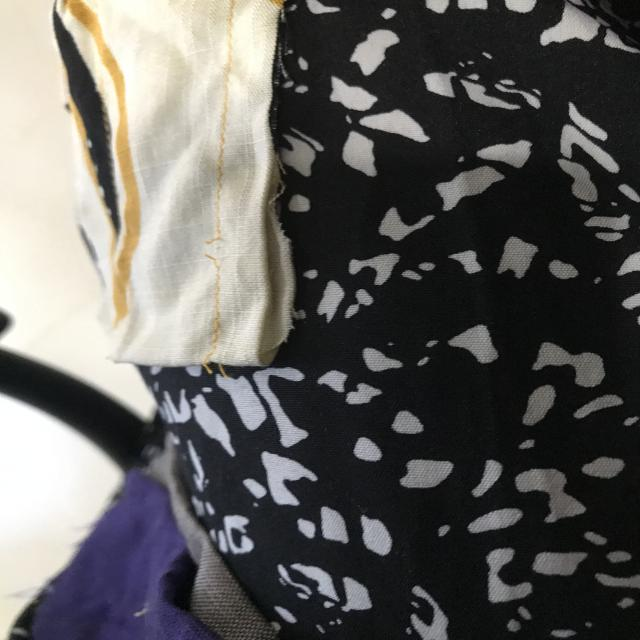broken: (195, 228, 249, 270)
